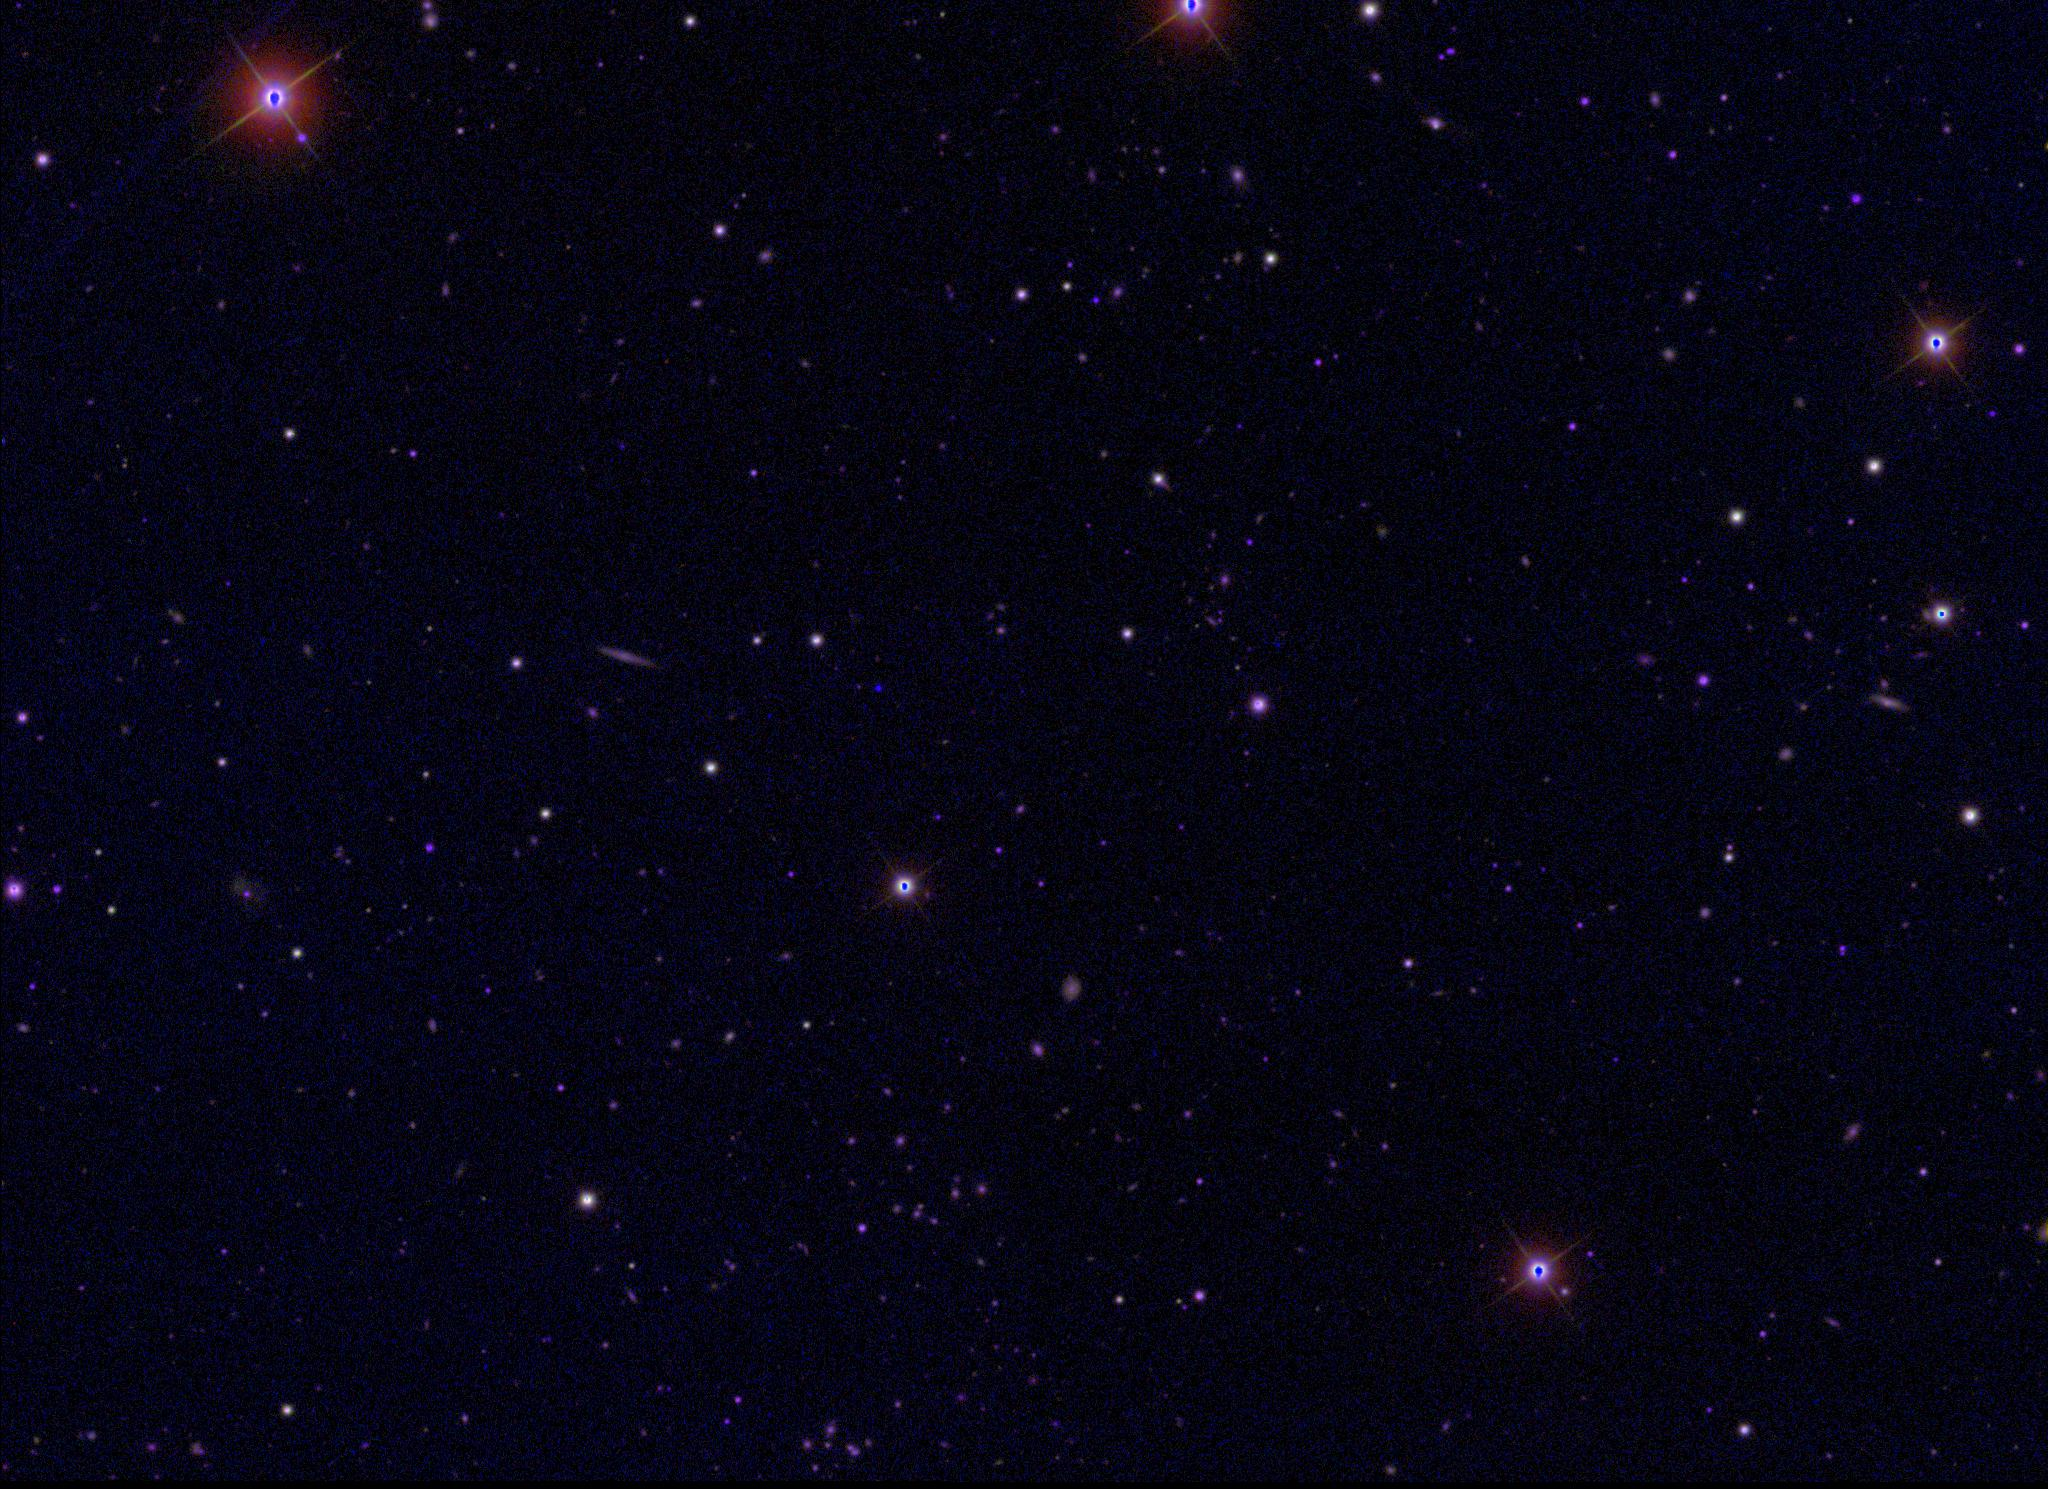L: (871, 682, 886, 697)
